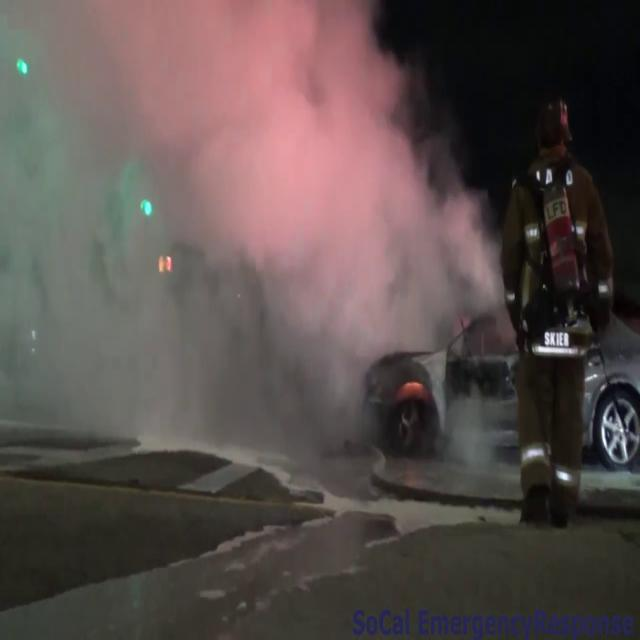Smoke: (1, 0, 501, 429)
